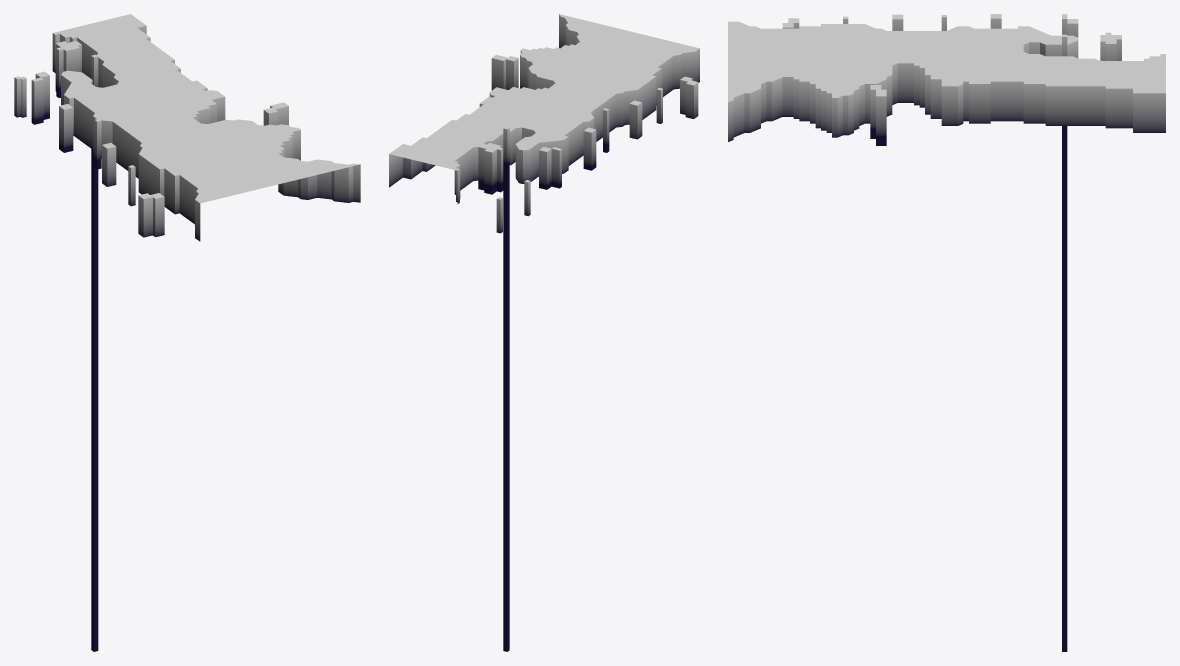
Rendered from BarrensPart1.obj.
The picture shows the model from 3 angles, left to right: view 1: azimuth 30°, elevation 25°; view 2: azimuth 150°, elevation 25°; view 3: azimuth 270°, elevation 25°; orthographic projection. The views are drawn at different scales.
Parts seen in each view (by area): view 1: BarrensPart1; view 2: BarrensPart1; view 3: BarrensPart1.
Part boxes in pixels (x1,y1,x2,y2): BarrensPart1: (14,14,360,651); BarrensPart1: (389,14,699,651); BarrensPart1: (728,14,1165,651).
Bounding box in the file's own units: 41 × 124 × 80.
